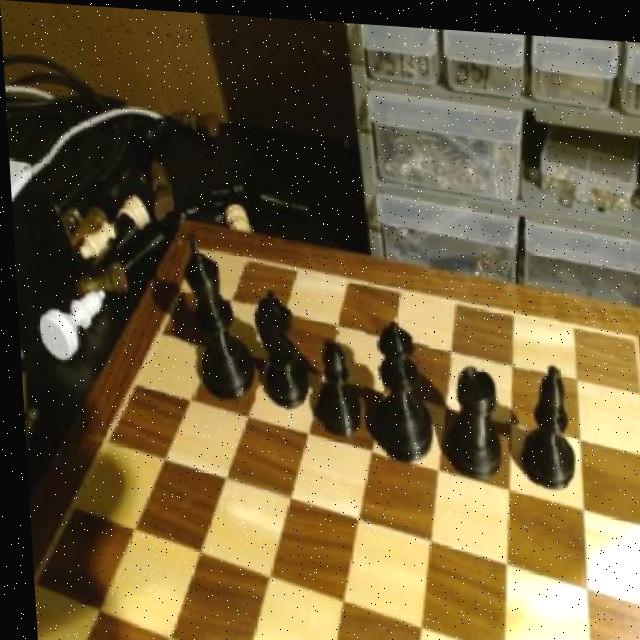bishop: (512, 351, 577, 489)
black-bishop: (178, 226, 253, 401)
black-king: (247, 288, 312, 414)
black-knight: (311, 325, 362, 436)
black-pawn: (363, 312, 434, 459)
black-queen: (437, 351, 503, 472)
